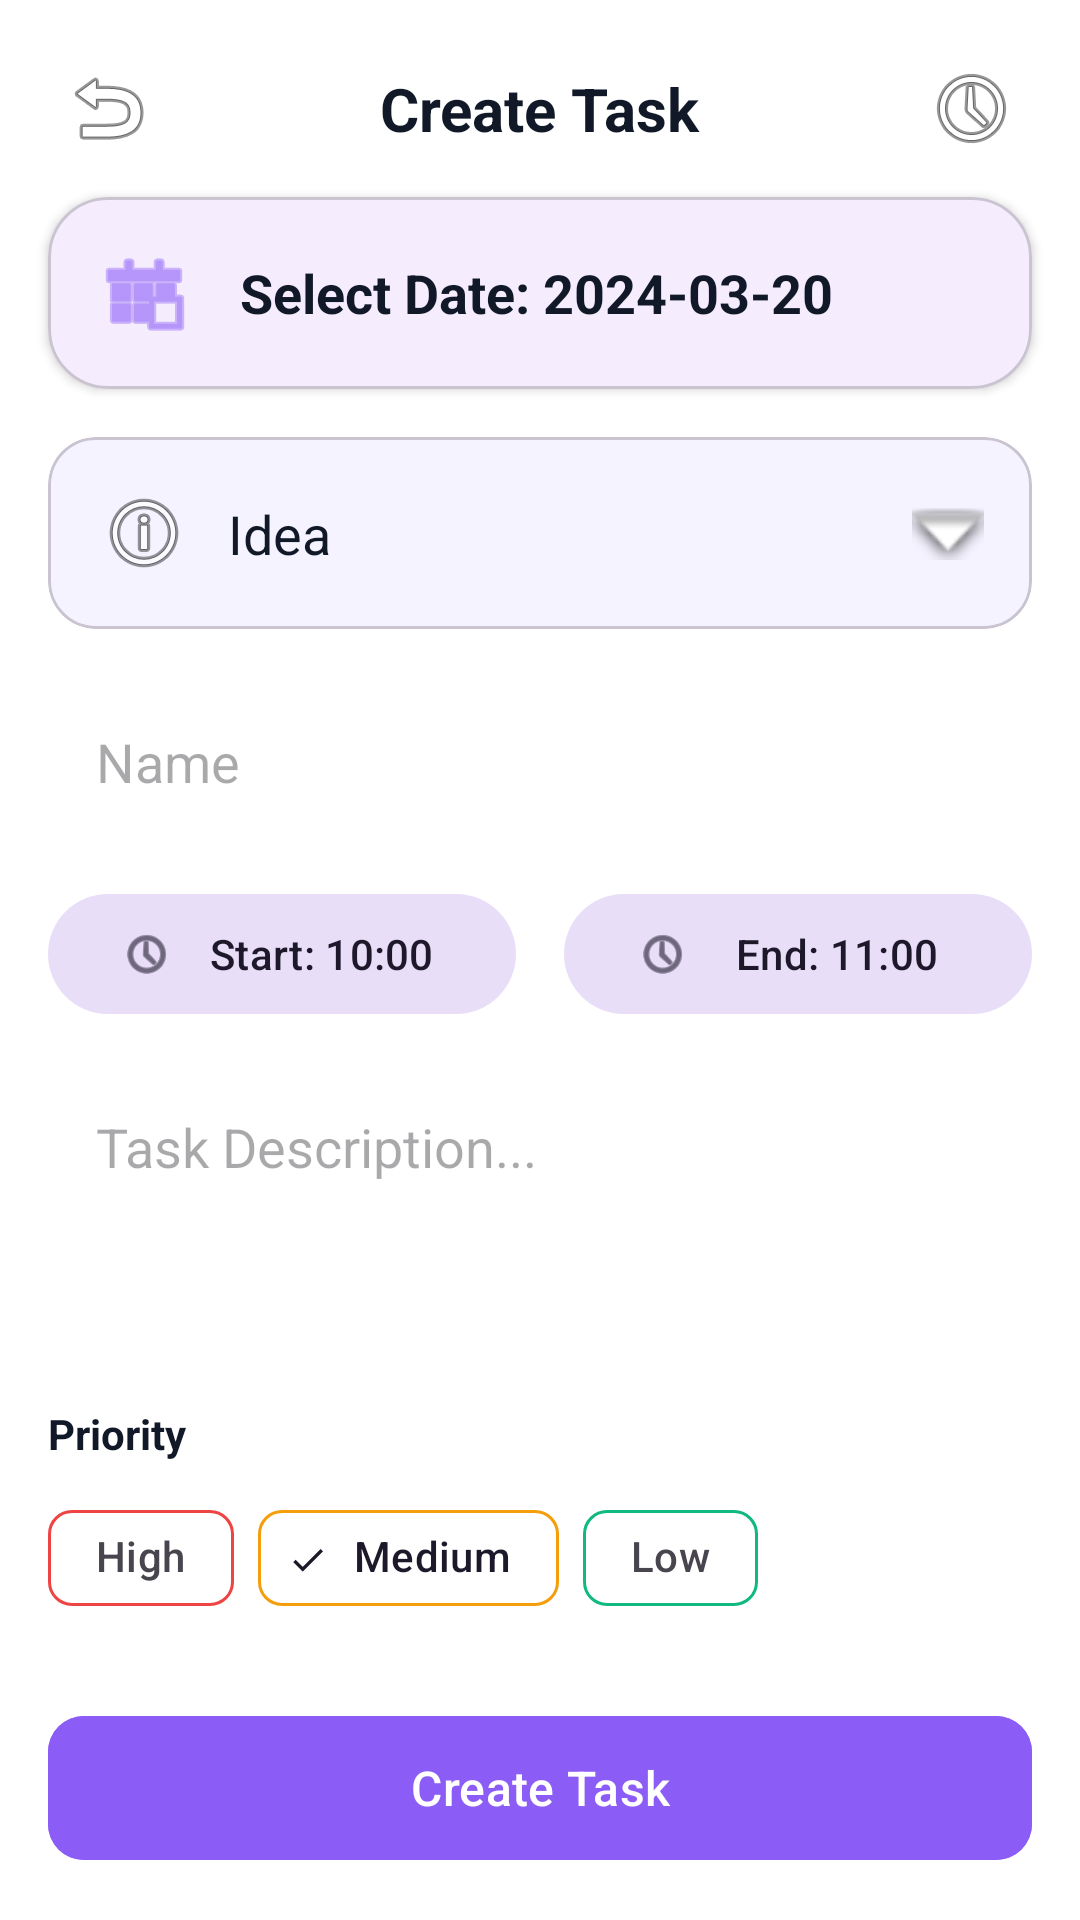

Screen size 1080x1920. Icon name, then its center in pixels as (x,y):
arrow down float: (948,533)
info details: (144,533)
recent history: (971,108)
revert: (109,108)
today: (145,294)
